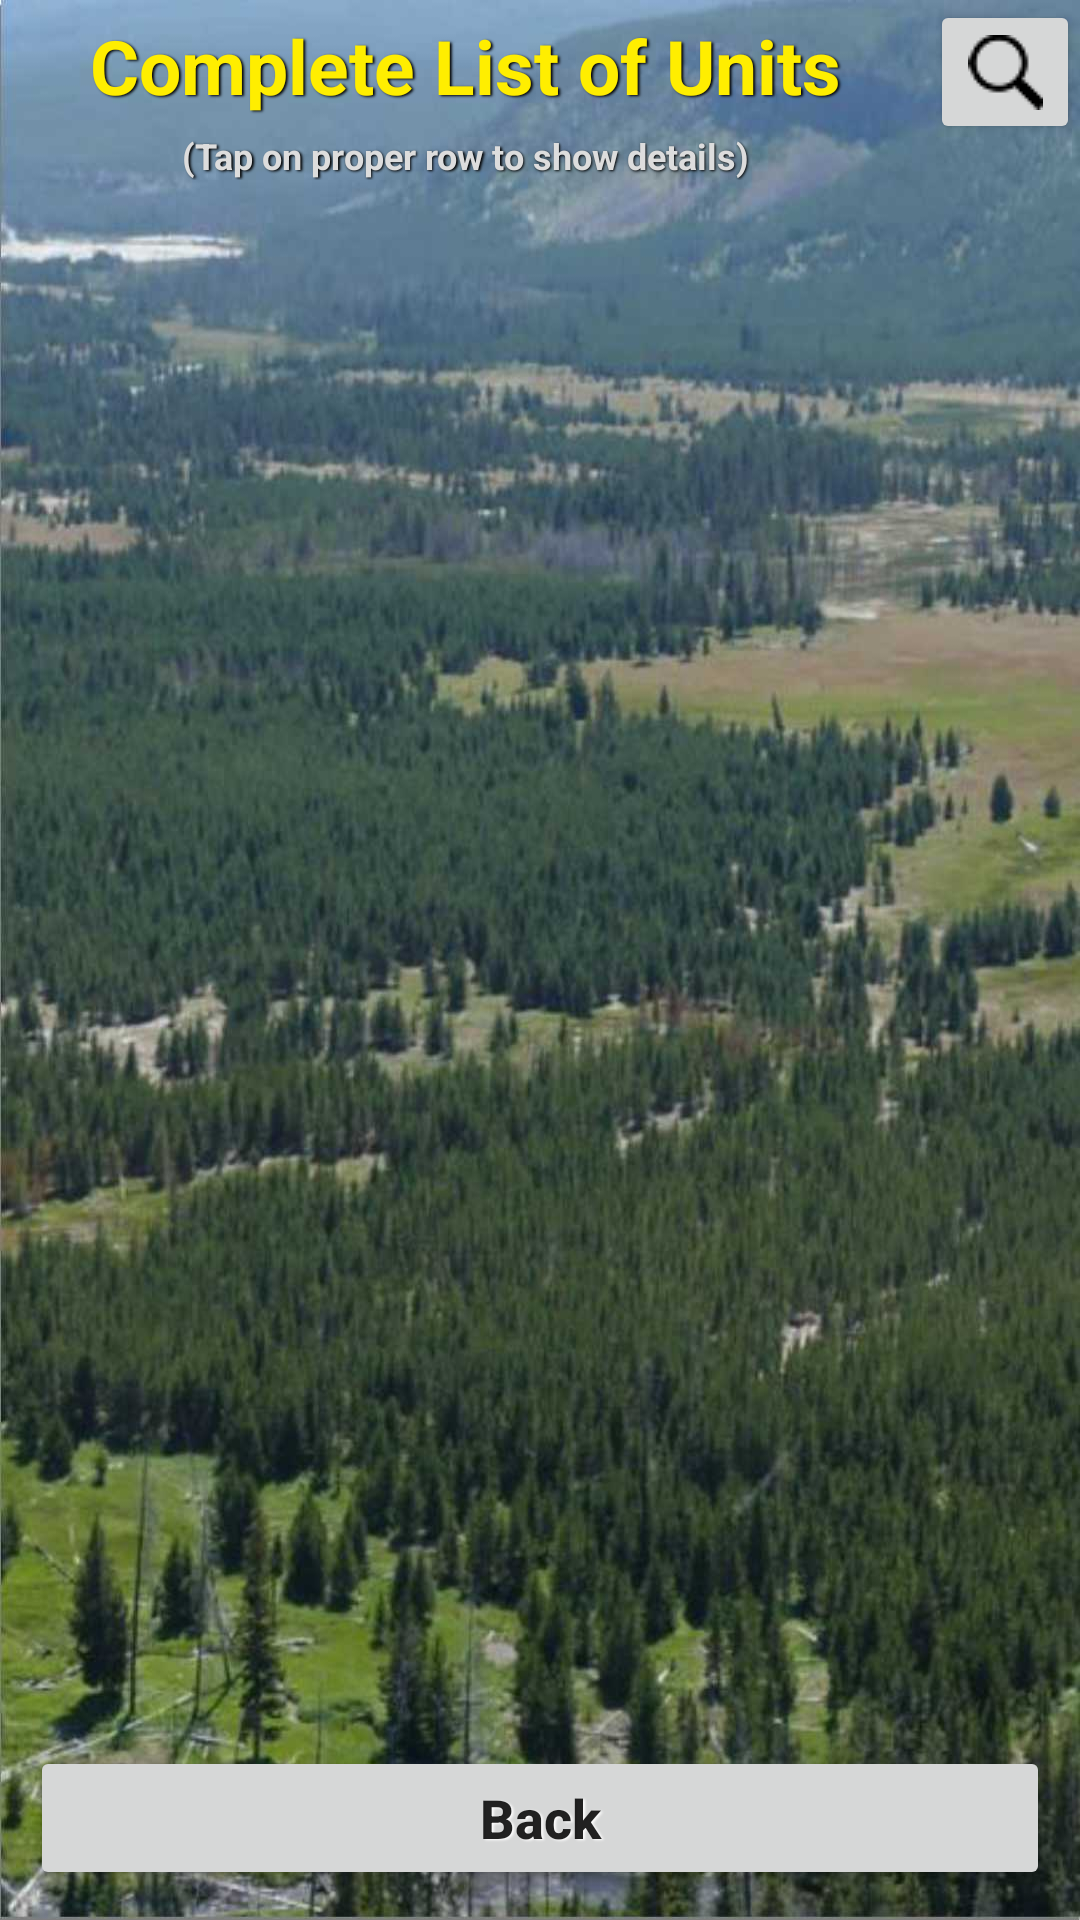

Icon bounding boxes for this 1080×1920 phone screenshot, format (x1, y1, x2, y2):
lupa: (942, 18, 1072, 144)
